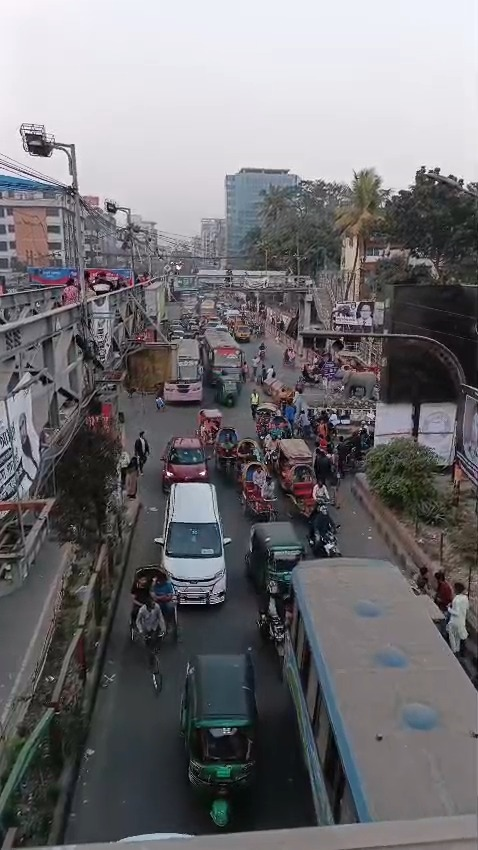Bus: (284, 551, 478, 828)
cng: (172, 641, 274, 827)
private car: (155, 477, 231, 613)
